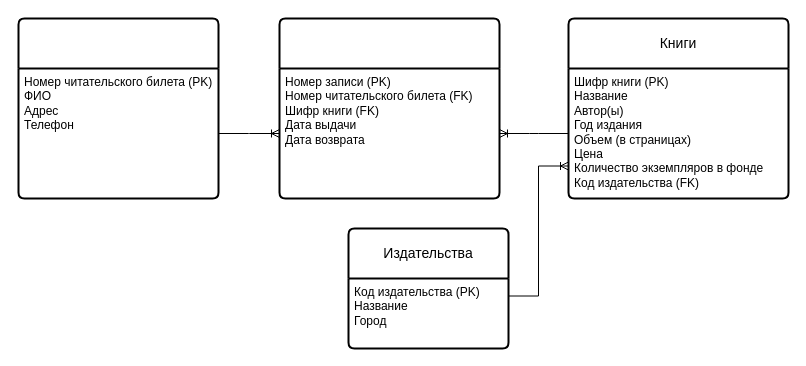
This 806x366 diagram has some shape labels left out. Each missing label, with the box of its shape:
Учет выданных книг: (278, 17, 500, 199)
Читатели: (17, 17, 219, 199)
